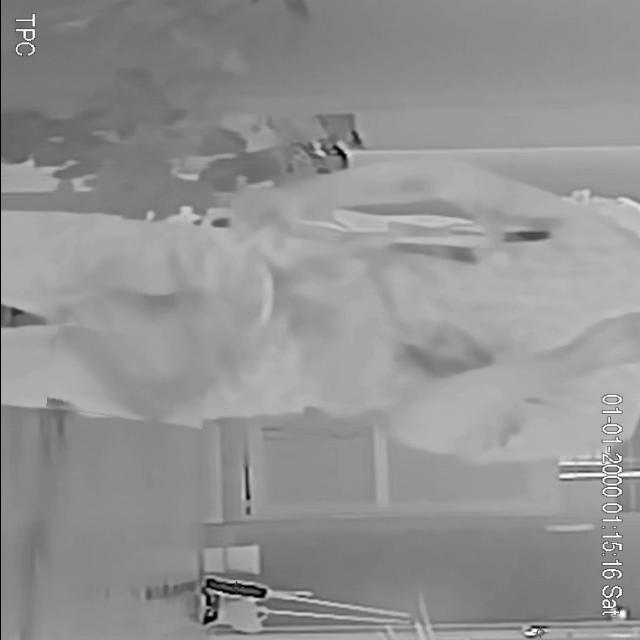Weapon: (48, 329, 210, 424)
